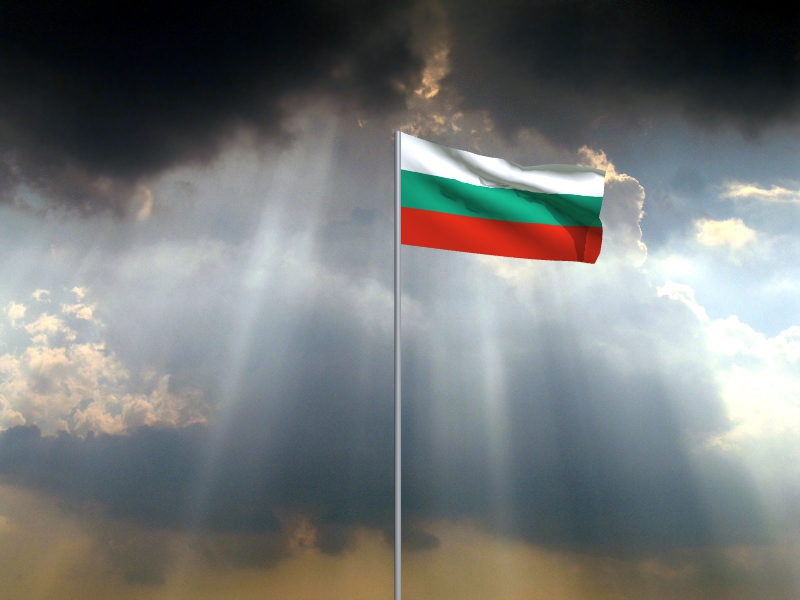bg: (402, 133, 608, 268)
